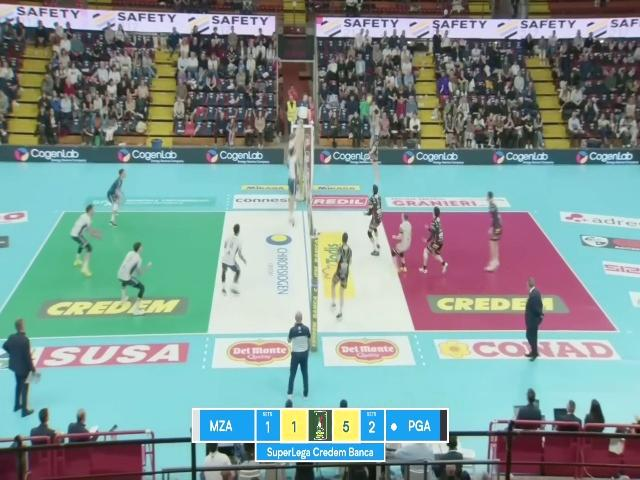volleyball court: (0, 207, 617, 339)
